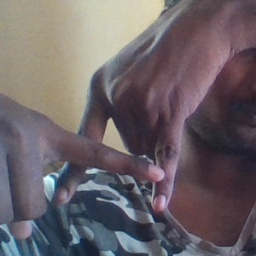H: (31, 77, 189, 215)
